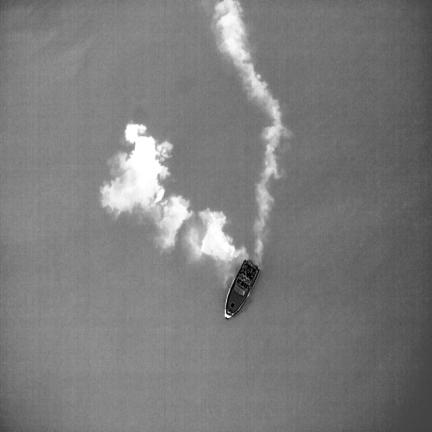flukeprints: (101, 124, 171, 213), (190, 208, 246, 262), (159, 197, 191, 246)
